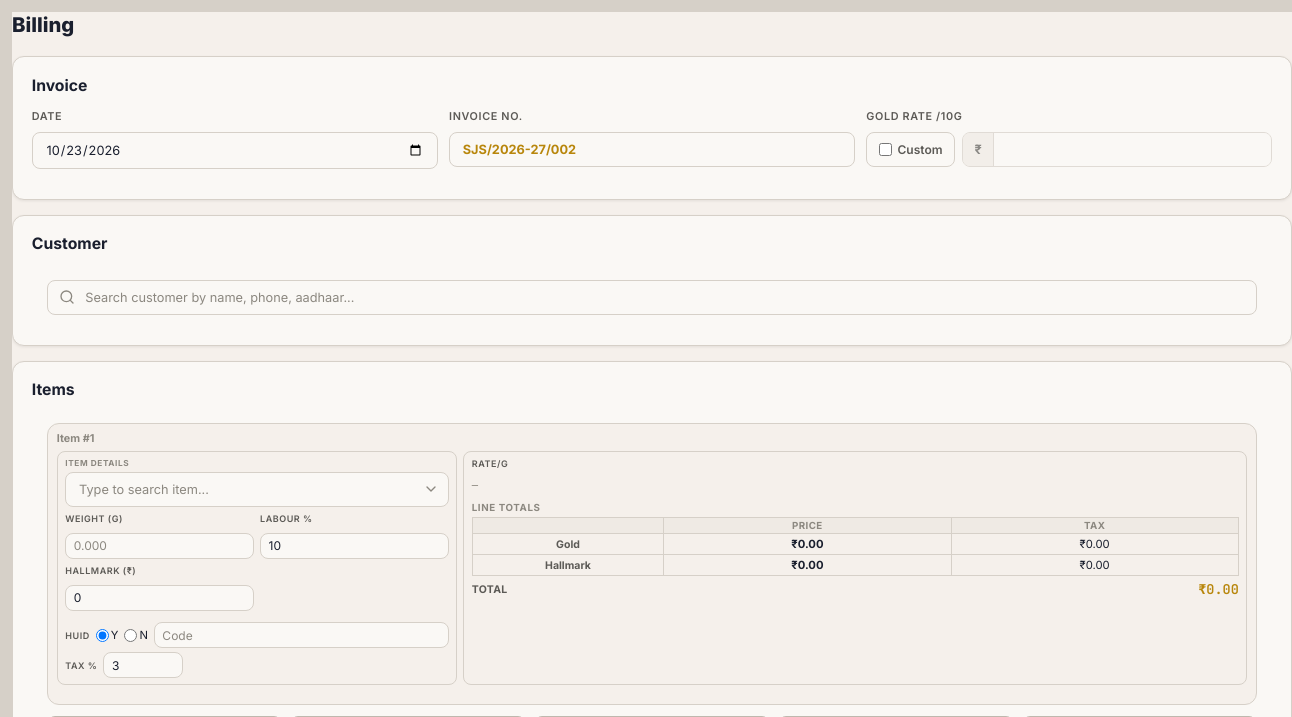
BillingPage — hallmark charge updates (regression) › typing directly into line Hallmark (₹) overrides the master value and totals use the typed value
The width and height of the screenshot is (1292, 717).
In the field with placeholder "Type to search item...": (257, 489) [65,472,449,507], type "Bang"
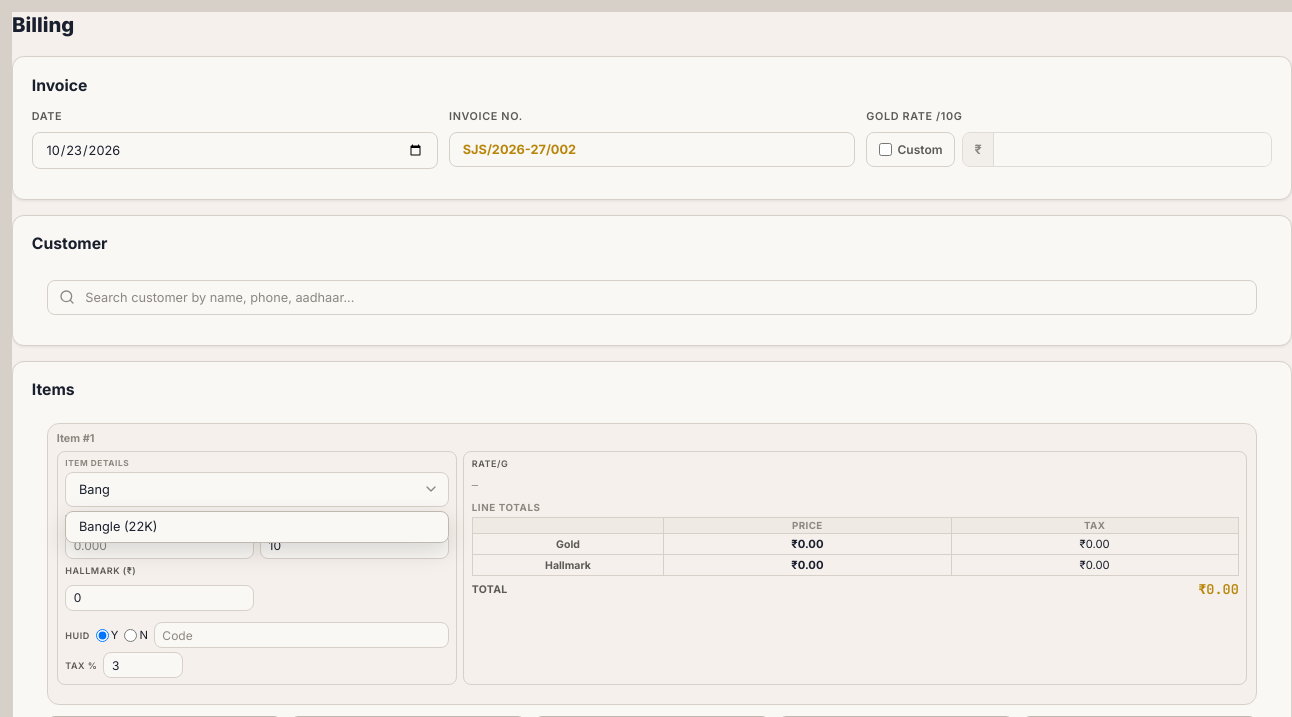
Result: the text "Bangle (22K)" is shown
Press the mouse on the text "Bangle (22K)": (118, 527) [79,519,157,534]
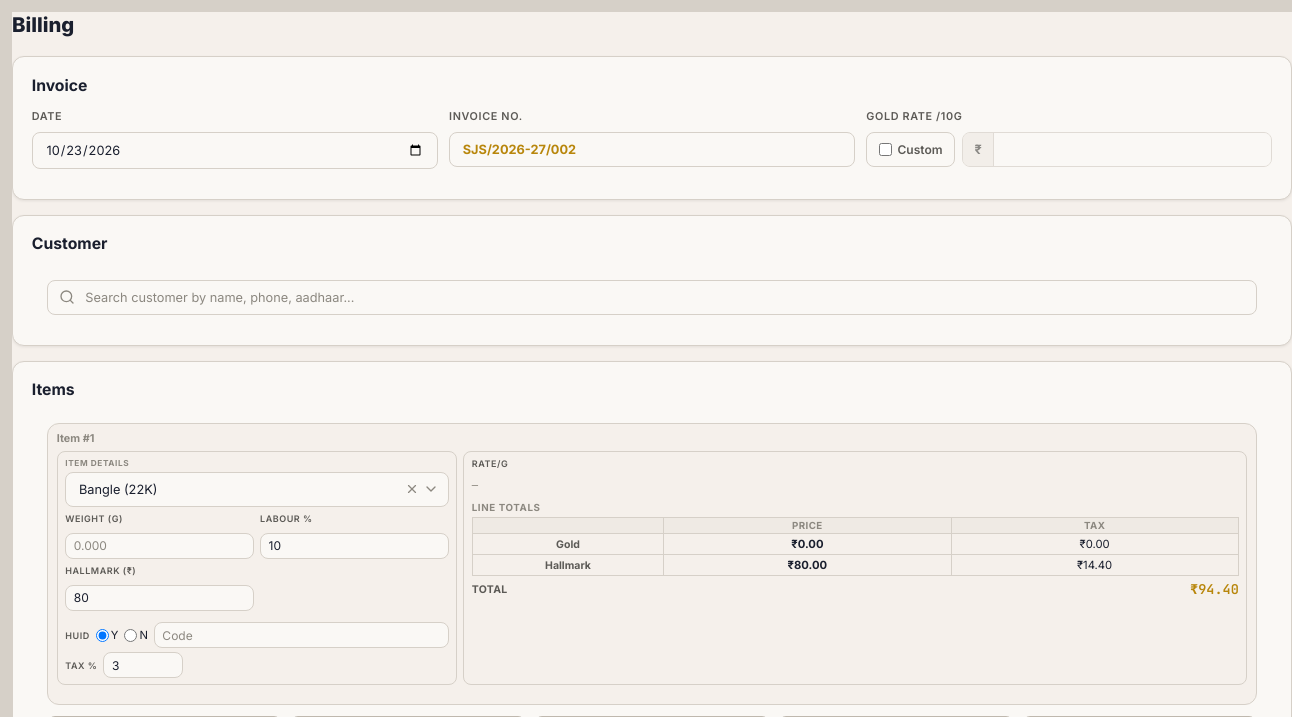
Replace the text in the number field below "Hallmark (₹)" with "75": (160, 598) [65,585,254,611]
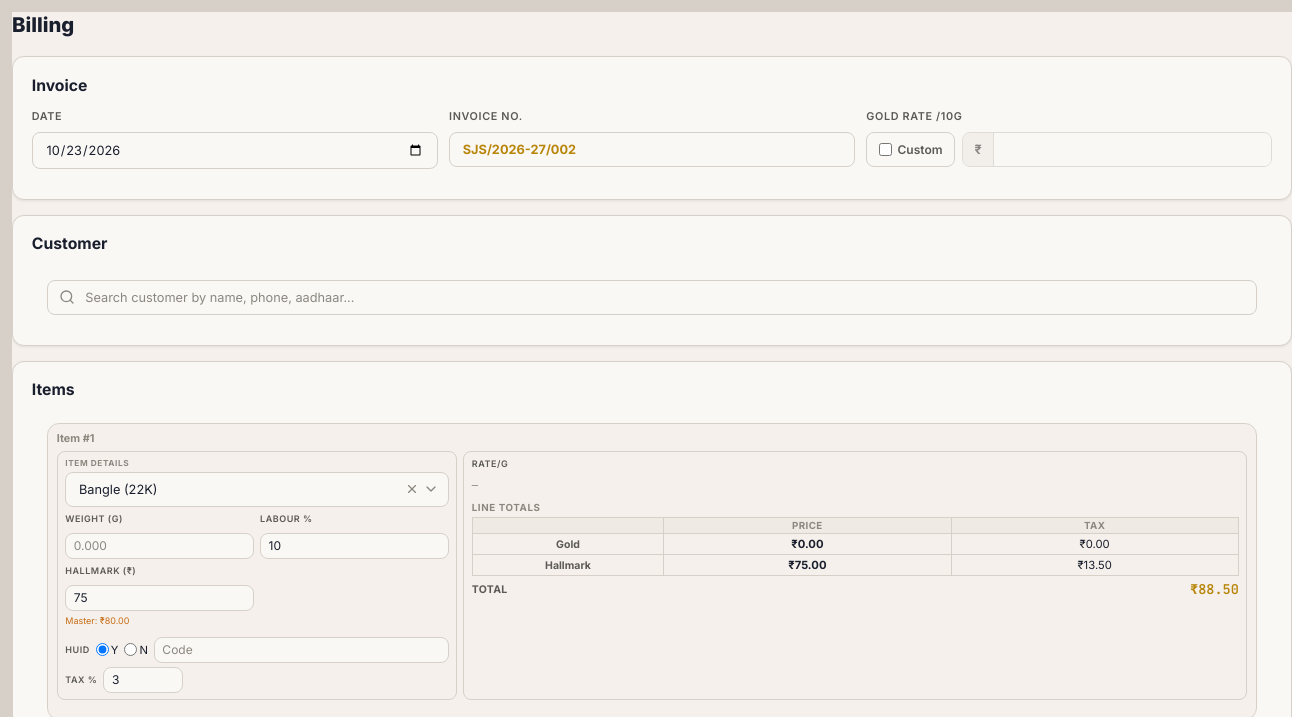
Result: the text "Master:" is shown at [65,614,100,626]
